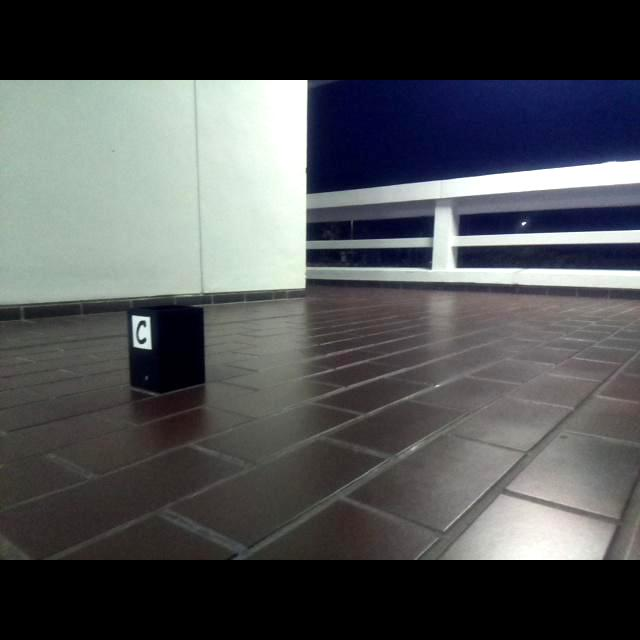C: (135, 320, 147, 345)
